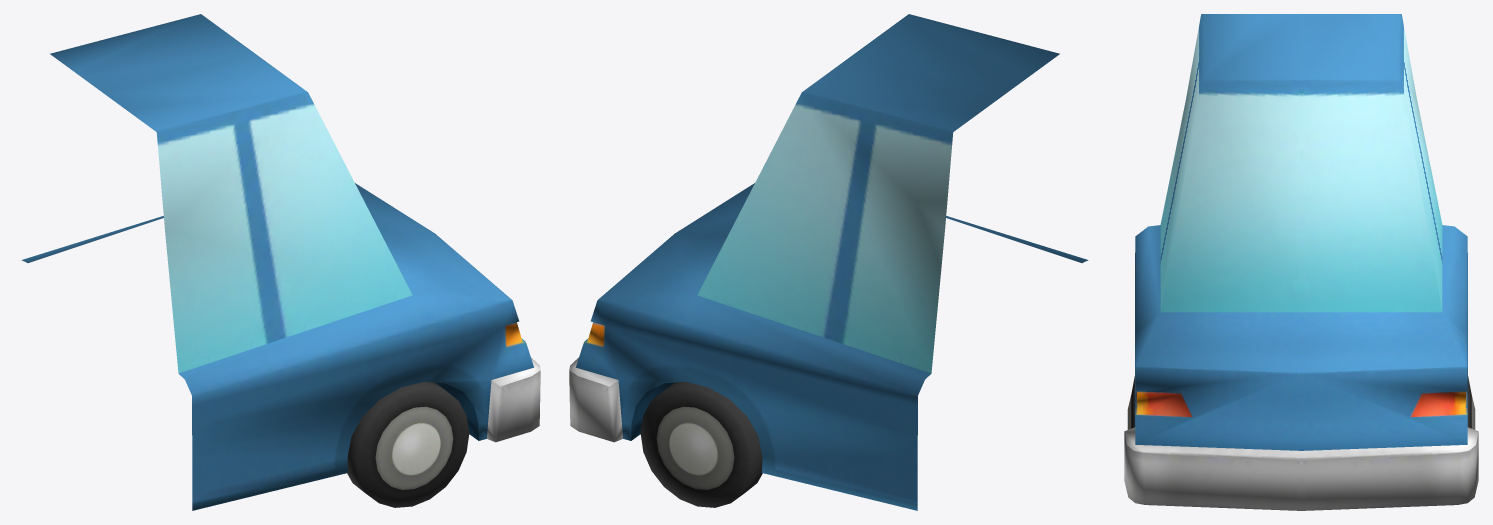
Rendered from car_left.glb.
3 renders of one model, left to right at view 1: azimuth 30°, elevation 25°; view 2: azimuth 150°, elevation 25°; view 3: azimuth 270°, elevation 25°, orthographic. The views are drawn at different scales.
Parts seen in each view (by area): view 1: car_left; view 2: car_left; view 3: car_left.
Part boxes in pixels (x1=…): car_left: x1=21, y1=14, x2=540, y2=510; car_left: x1=569, y1=14, x2=1088, y2=510; car_left: x1=1124, y1=14, x2=1478, y2=510.
Bounding box in the file's own units: 0.6998 × 0.7397 × 0.6263.
Materials: 1 (1 with a texture image).
